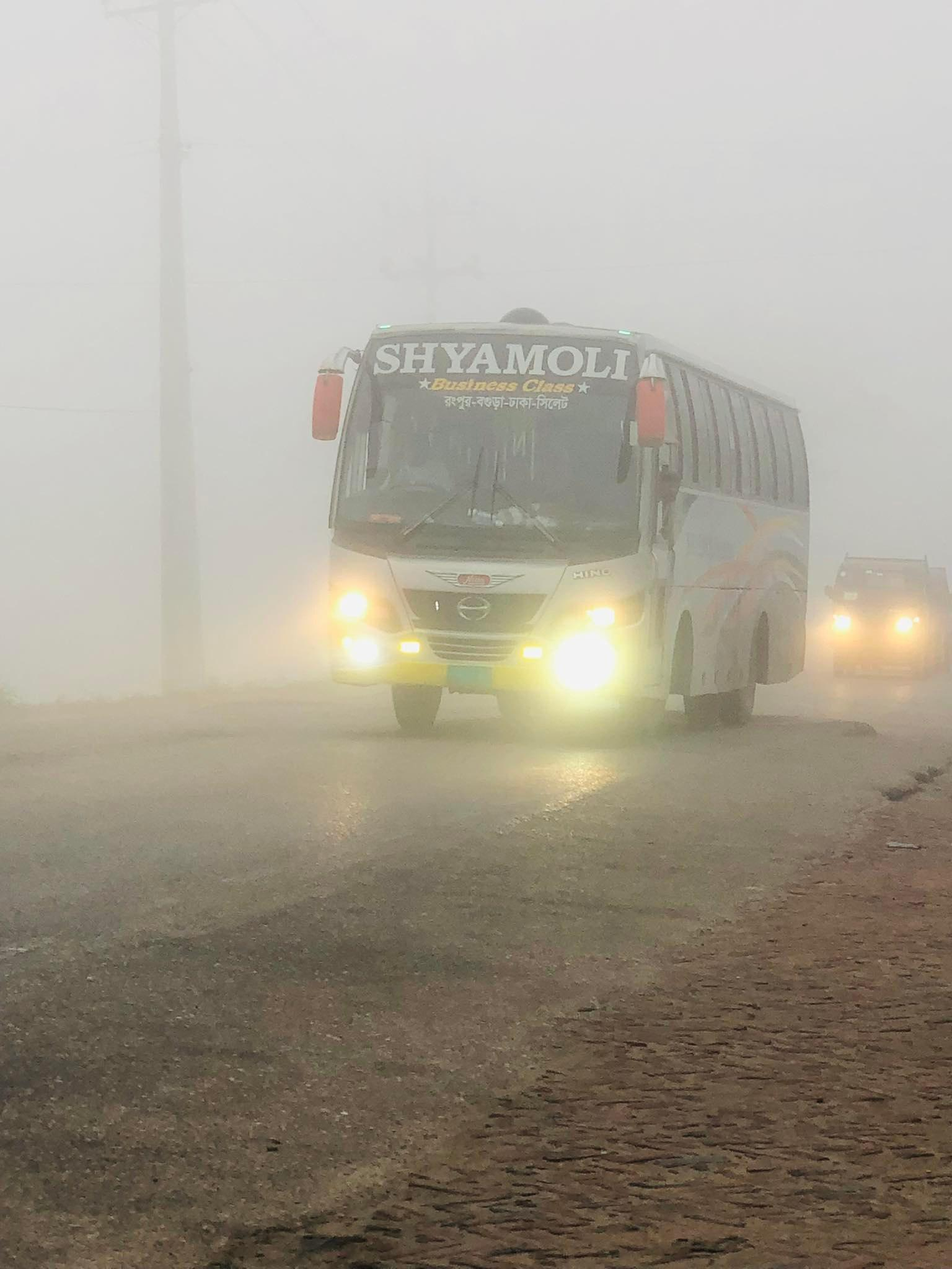Bus: (280, 278, 827, 762)
Truck: (806, 530, 948, 700)
